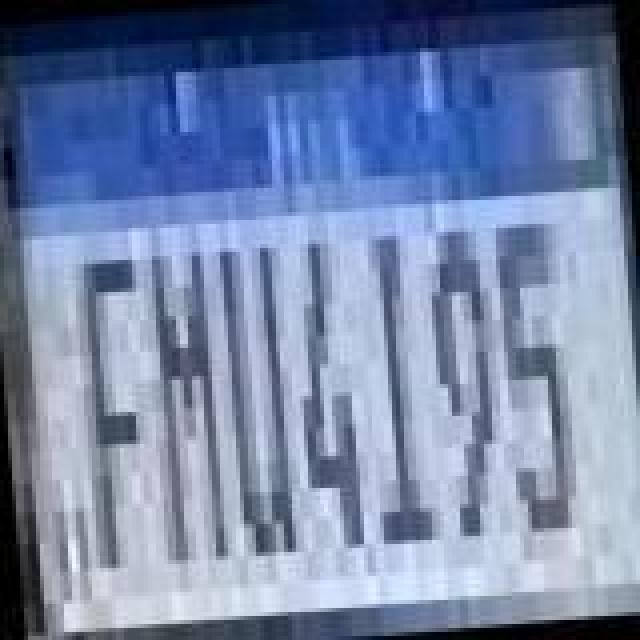4: (286, 226, 370, 558)
5: (490, 216, 582, 552)
9: (420, 222, 508, 546)
F: (74, 242, 166, 574)
I: (352, 224, 440, 560)
M: (140, 228, 228, 572)
U: (212, 234, 300, 566)
